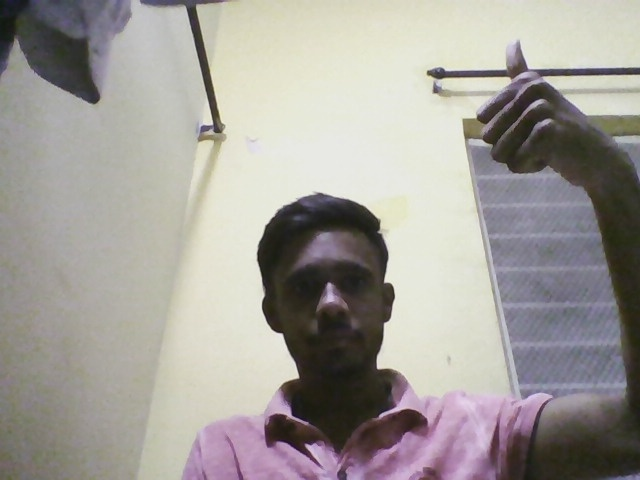yes: (453, 1, 599, 205)
